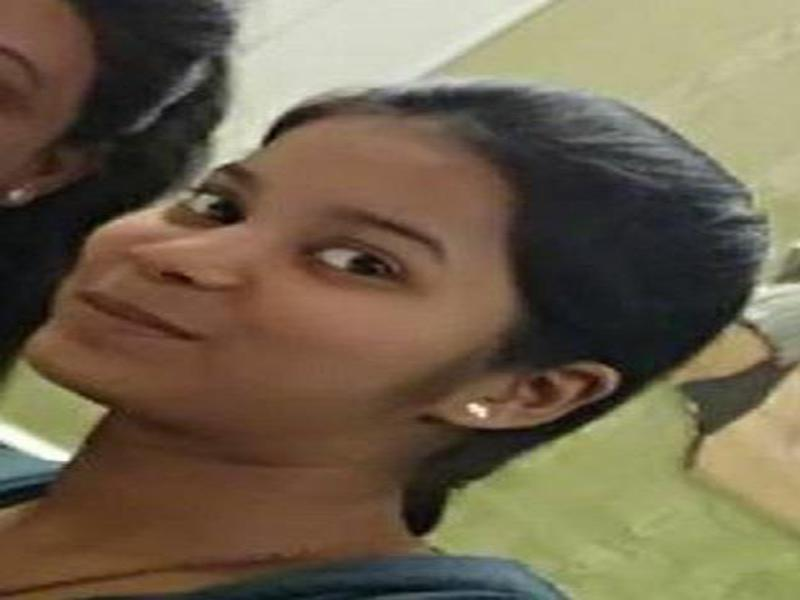without_mask: (40, 85, 499, 455)
